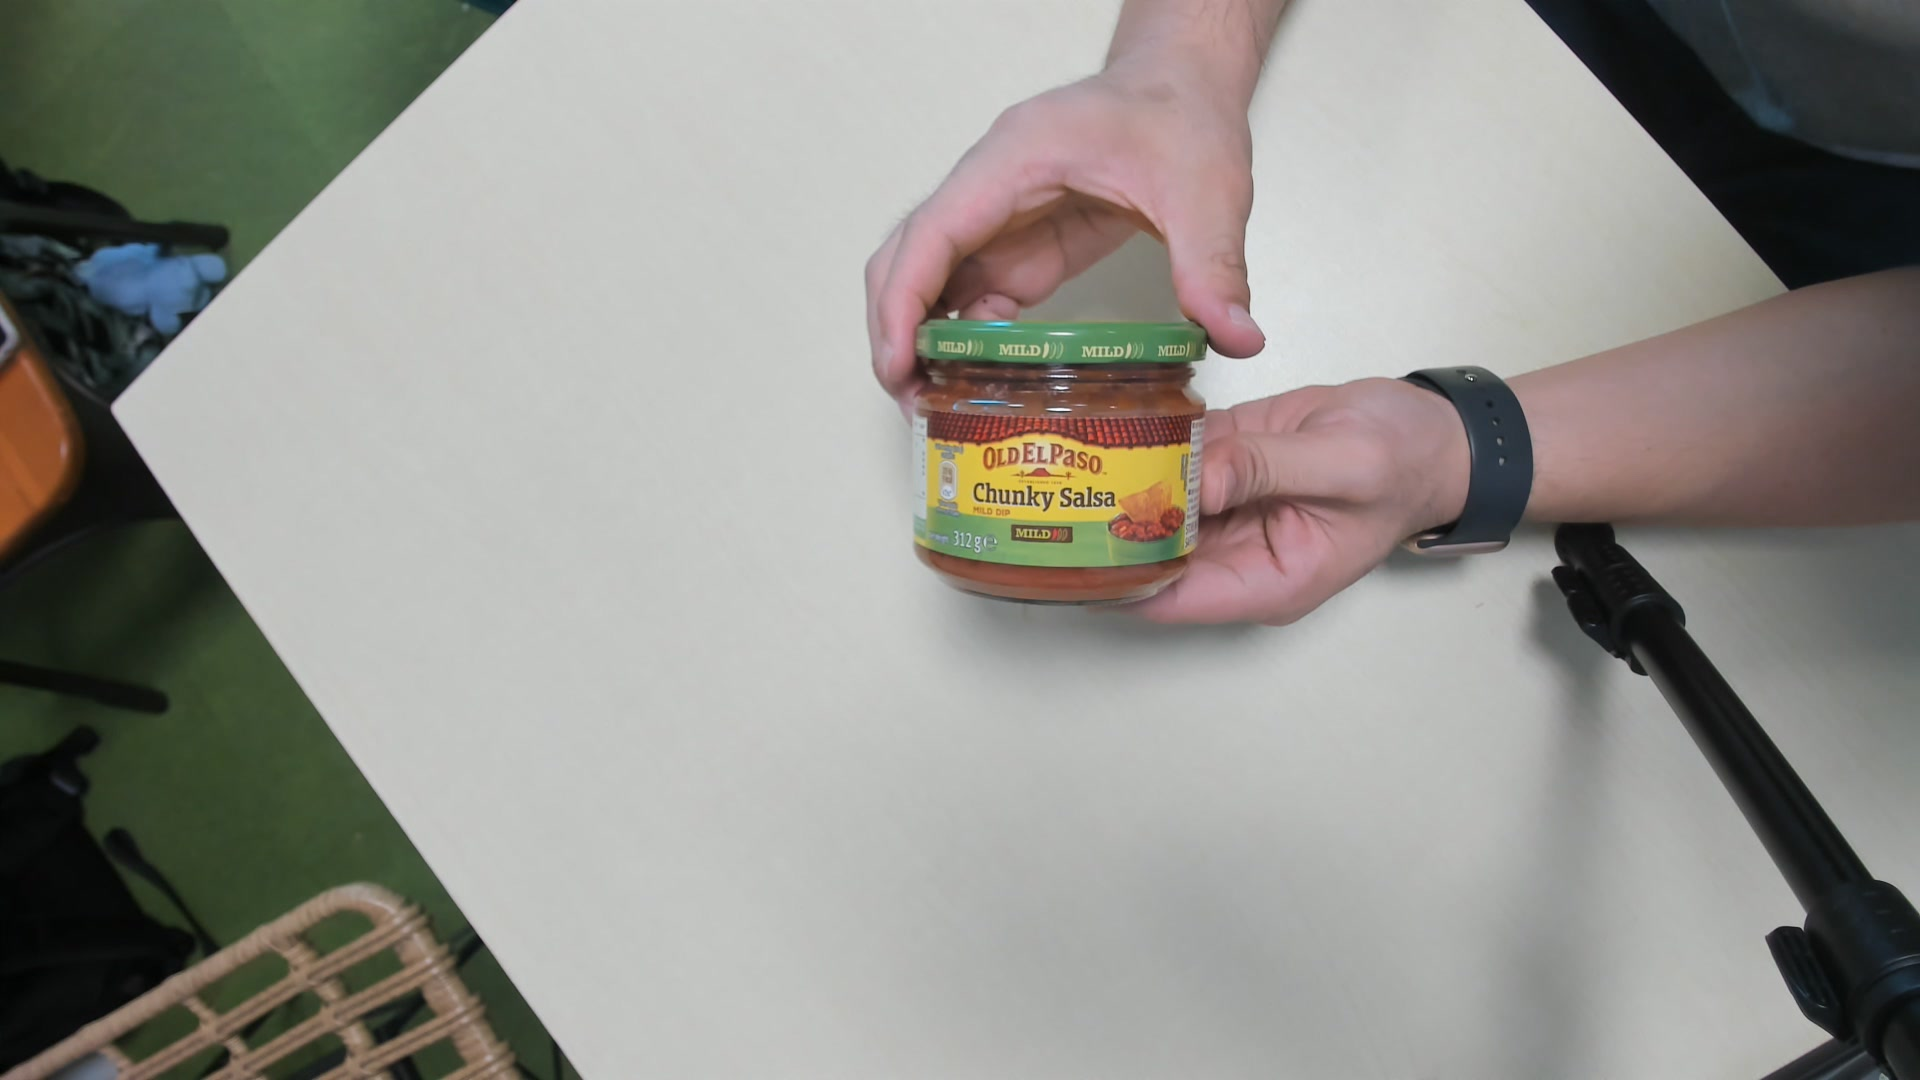OtherSauceDressing_300-399g_NonHalal_NonHealthy: (911, 313, 1205, 615)
